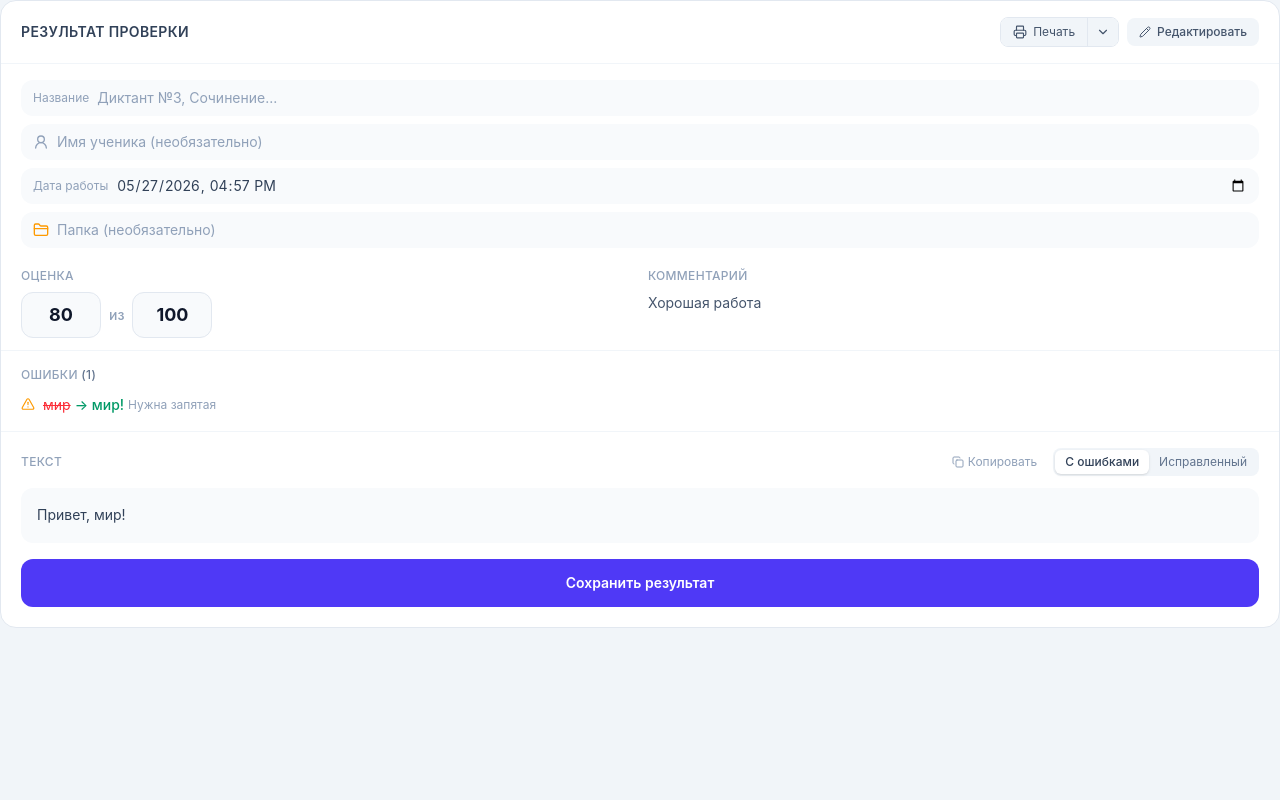
Test: ResultPanel — редактирование › exits edit mode on second click
Click the button "Редактировать" at point(1193, 32), box [1127,18,1259,46]
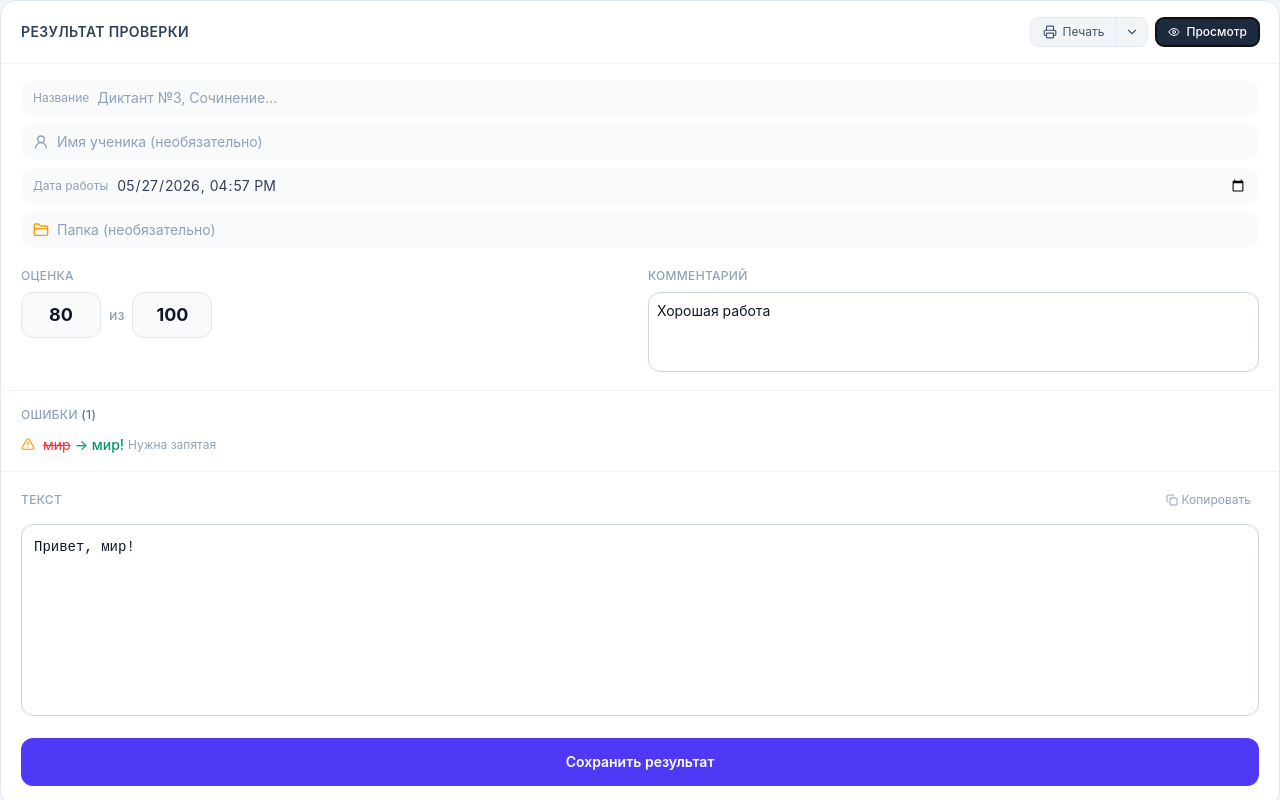
Click the button "Просмотр" at point(1208, 32), box [1156,18,1259,46]
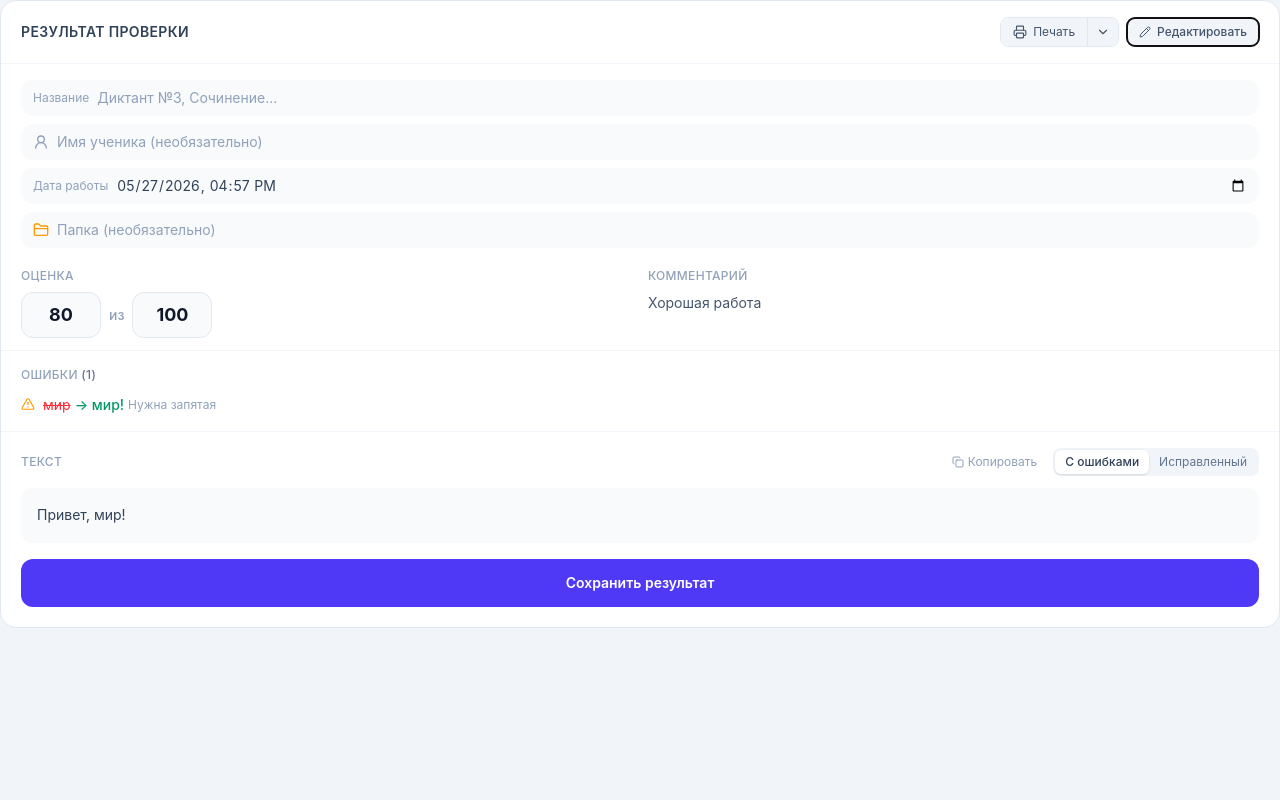
Now the button "Просмотр" is gone
Now the button "Редактировать" is shown, box [1127,18,1259,46]
